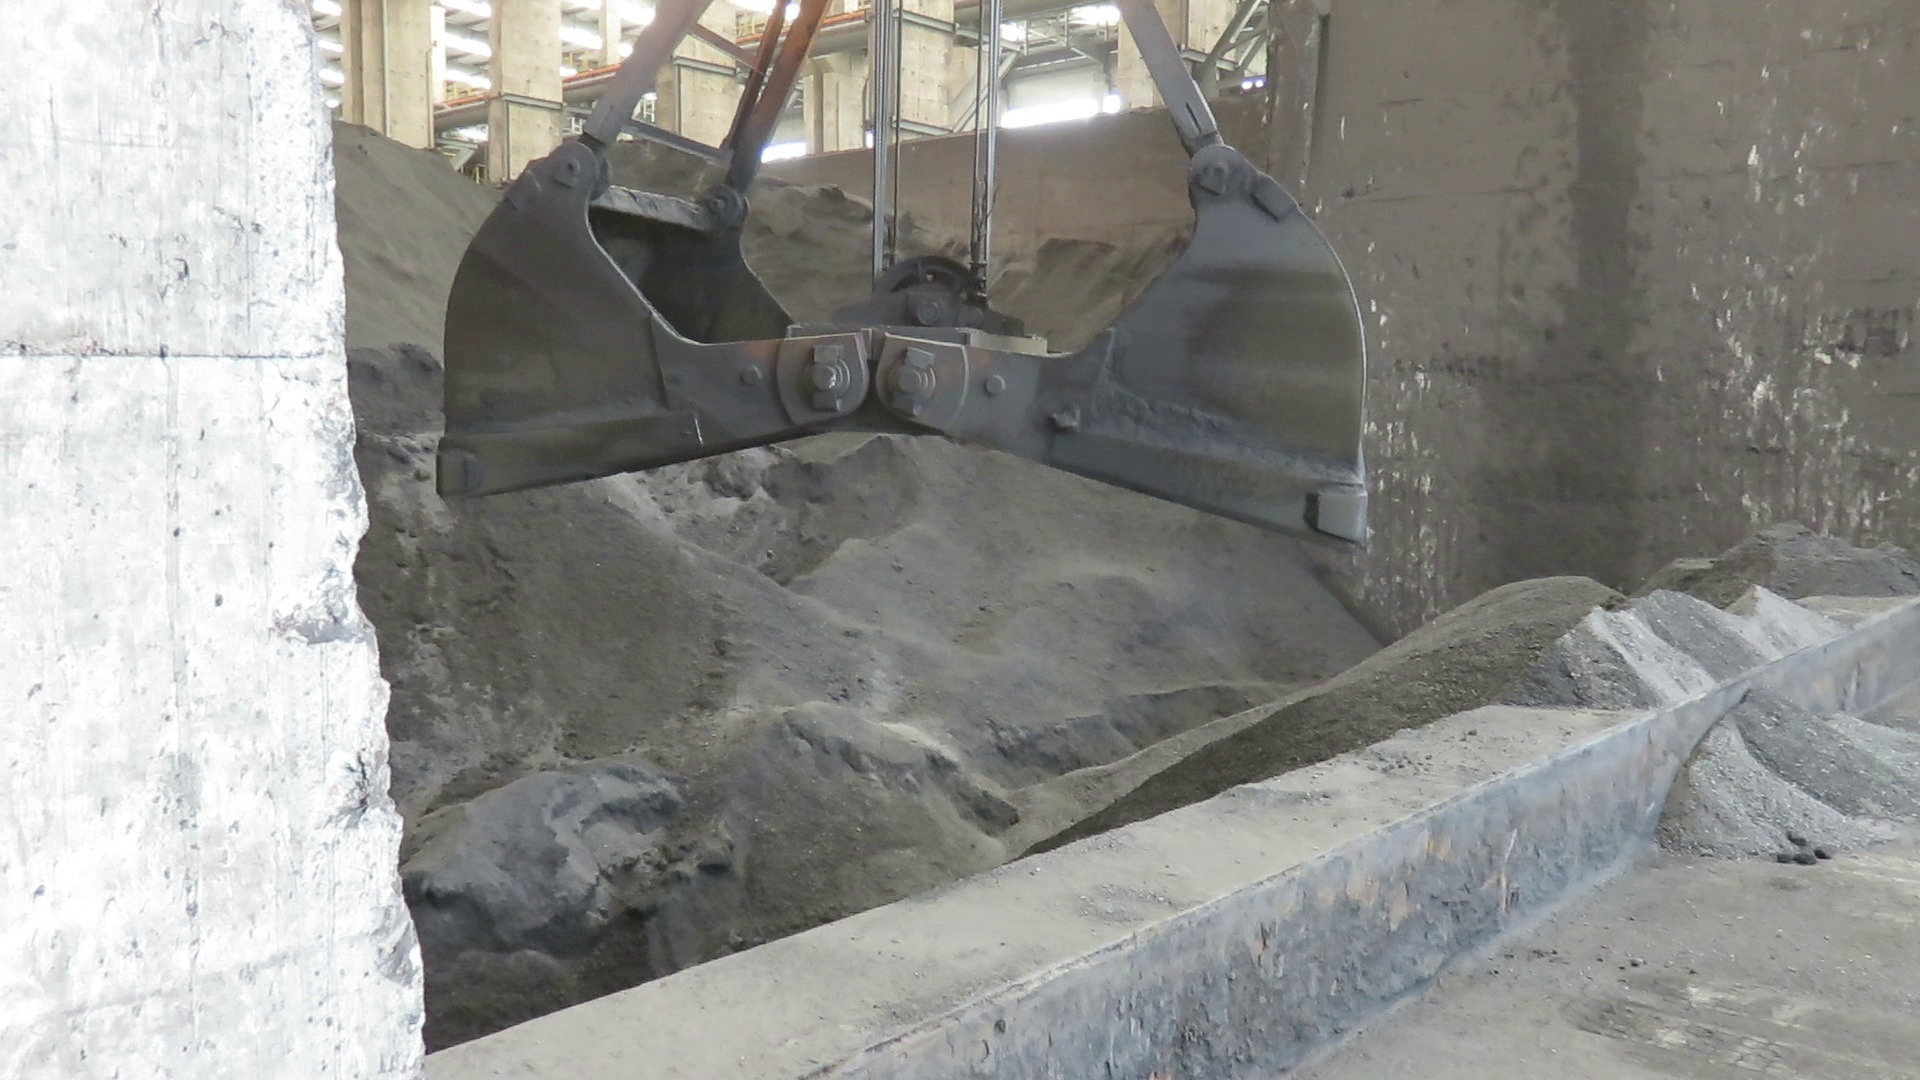grab: (426, 4, 1382, 562)
